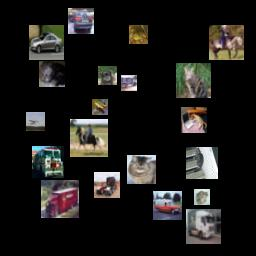airplane: (26, 112, 45, 131), (92, 99, 108, 115)
automobile: (29, 25, 64, 60), (153, 191, 182, 220), (68, 8, 94, 34)
cat: (176, 63, 211, 98), (186, 147, 218, 179), (127, 155, 156, 184), (181, 107, 207, 133), (39, 61, 65, 87)
dog: (98, 66, 117, 85)
frog: (129, 25, 148, 44), (194, 189, 210, 205)
truck: (41, 180, 79, 218), (186, 209, 221, 244), (32, 146, 64, 178), (94, 172, 120, 198), (121, 75, 137, 91)
